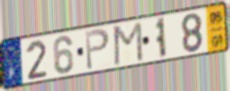1: (154, 15, 168, 60)
2: (25, 38, 49, 81)
6: (52, 34, 74, 76)
8: (180, 12, 204, 54)
M: (112, 20, 144, 67)
P: (84, 27, 112, 72)
